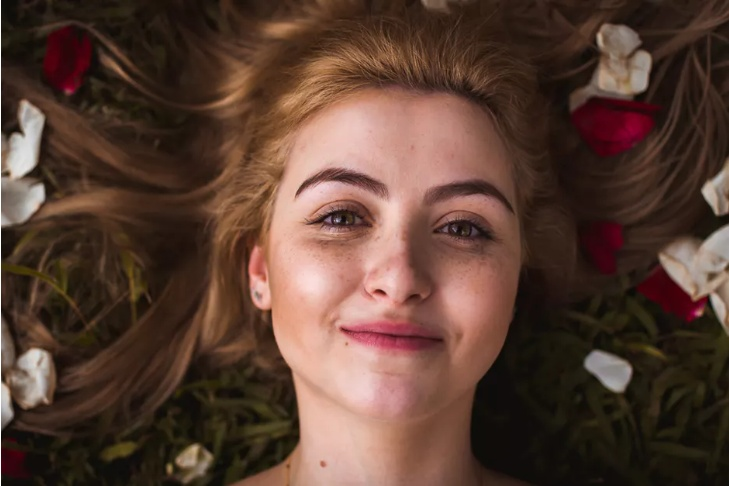face: (270, 96, 520, 411)
